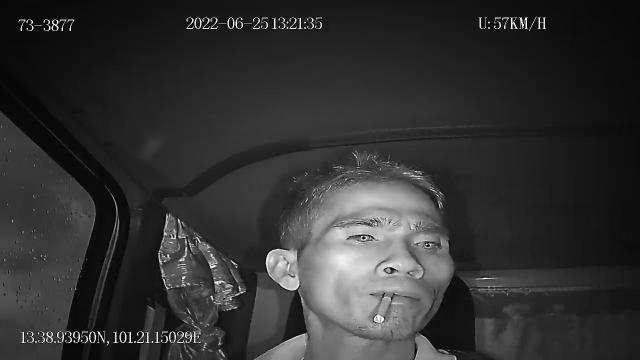SafeDriving: (339, 224, 386, 249), (406, 231, 450, 255)
Smoking: (373, 292, 395, 324)
